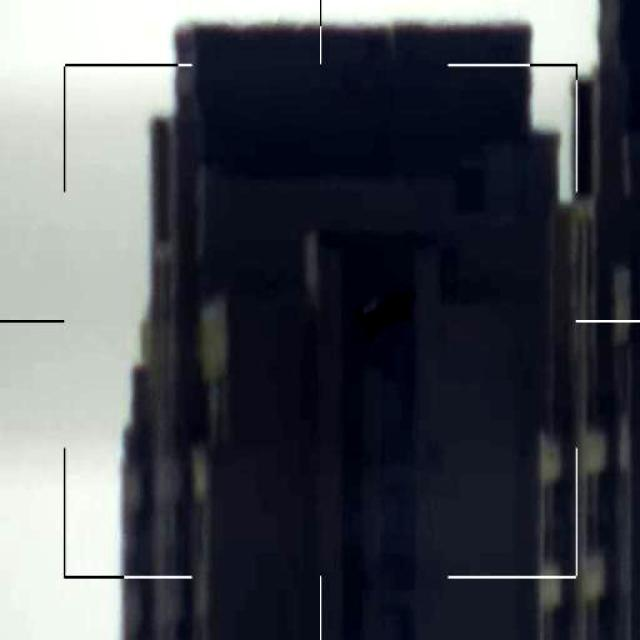bird: (360, 282, 406, 331)
